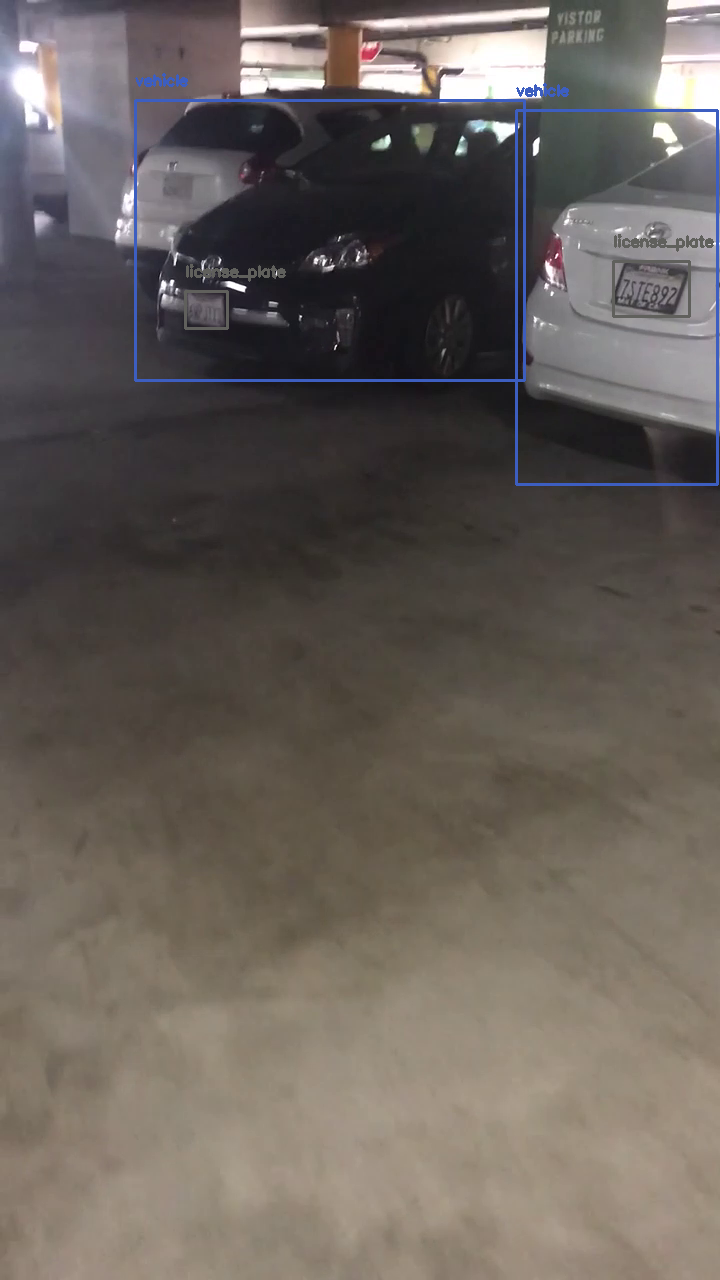license_plate: (613, 261, 689, 316), (185, 291, 227, 328)
vehicle: (135, 100, 524, 380), (516, 110, 717, 484)
